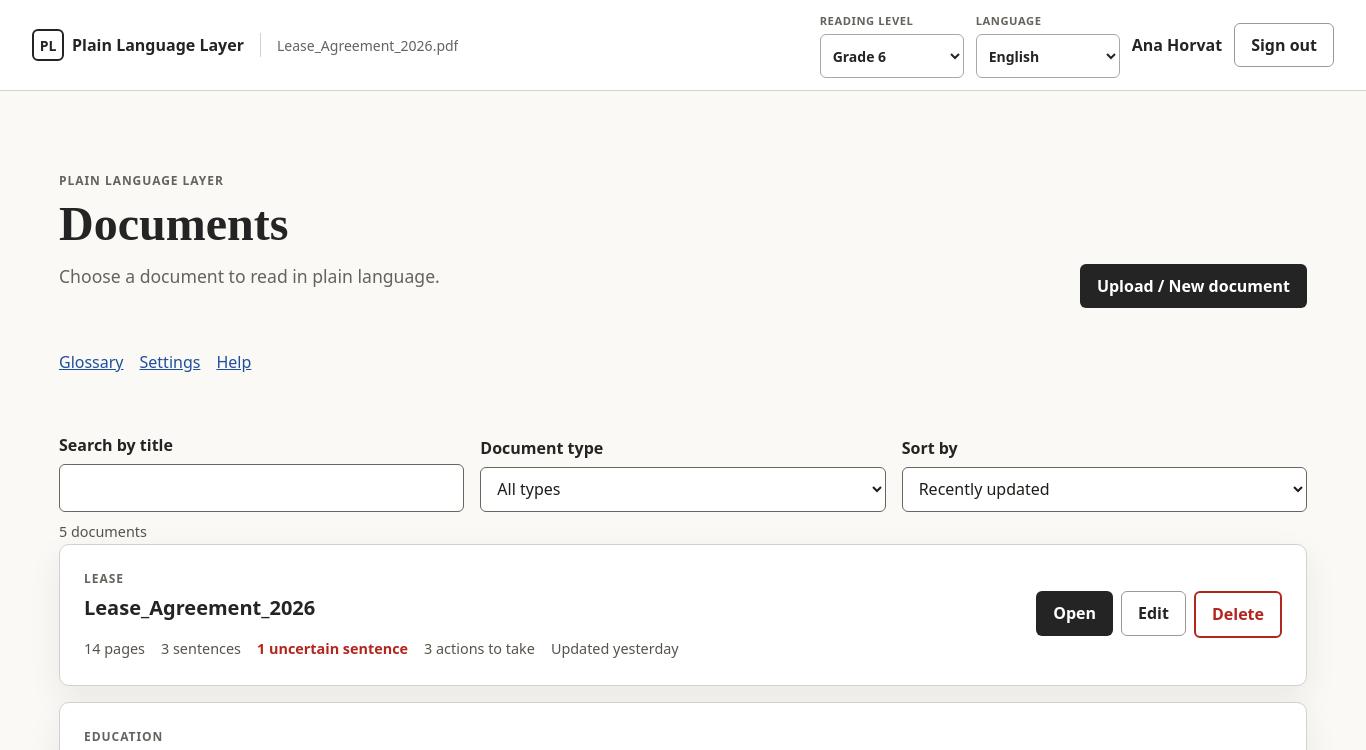
Scenario: documents list (screens 04 / 06) › shows a no-results state with a way out
Check: the heading "Lease_Agreement_2026" is shown, box [84,594,315,621]
In the search field labelled "Search by title": x=262, y=488 [59,464,464,512], type "qqqq"
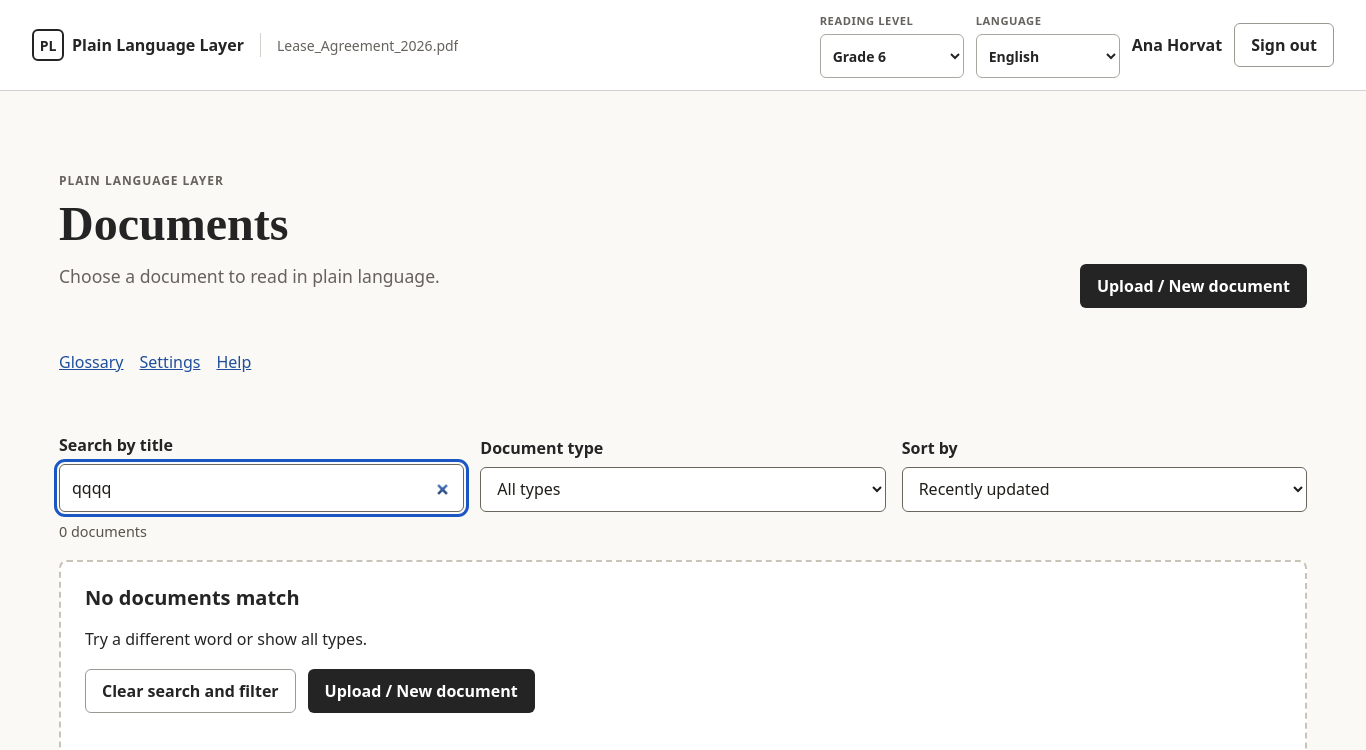
Check: the heading "No documents match" is shown, box [85,584,300,611]
Click the button "Clear search and filter": x=190, y=691 [85,669,296,713]
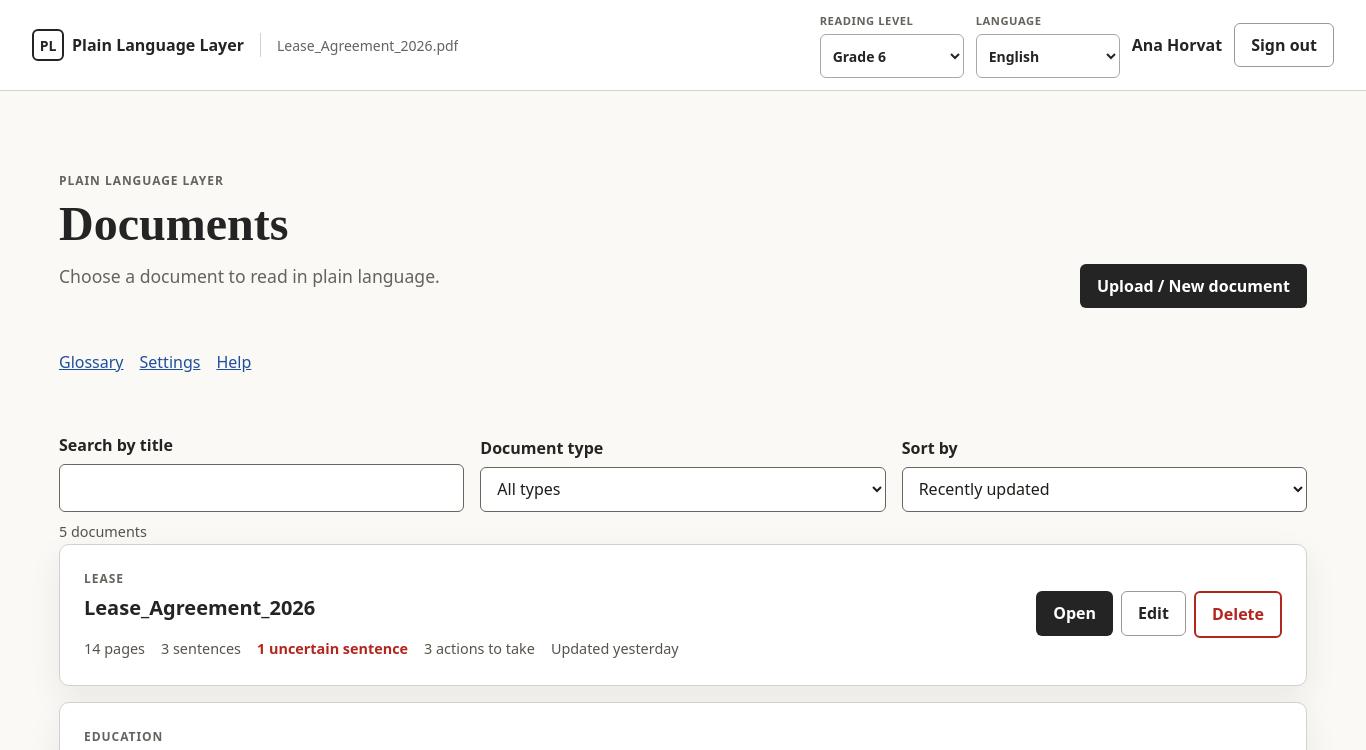
Check: the heading "Lease_Agreement_2026" is shown, box [84,594,315,621]
